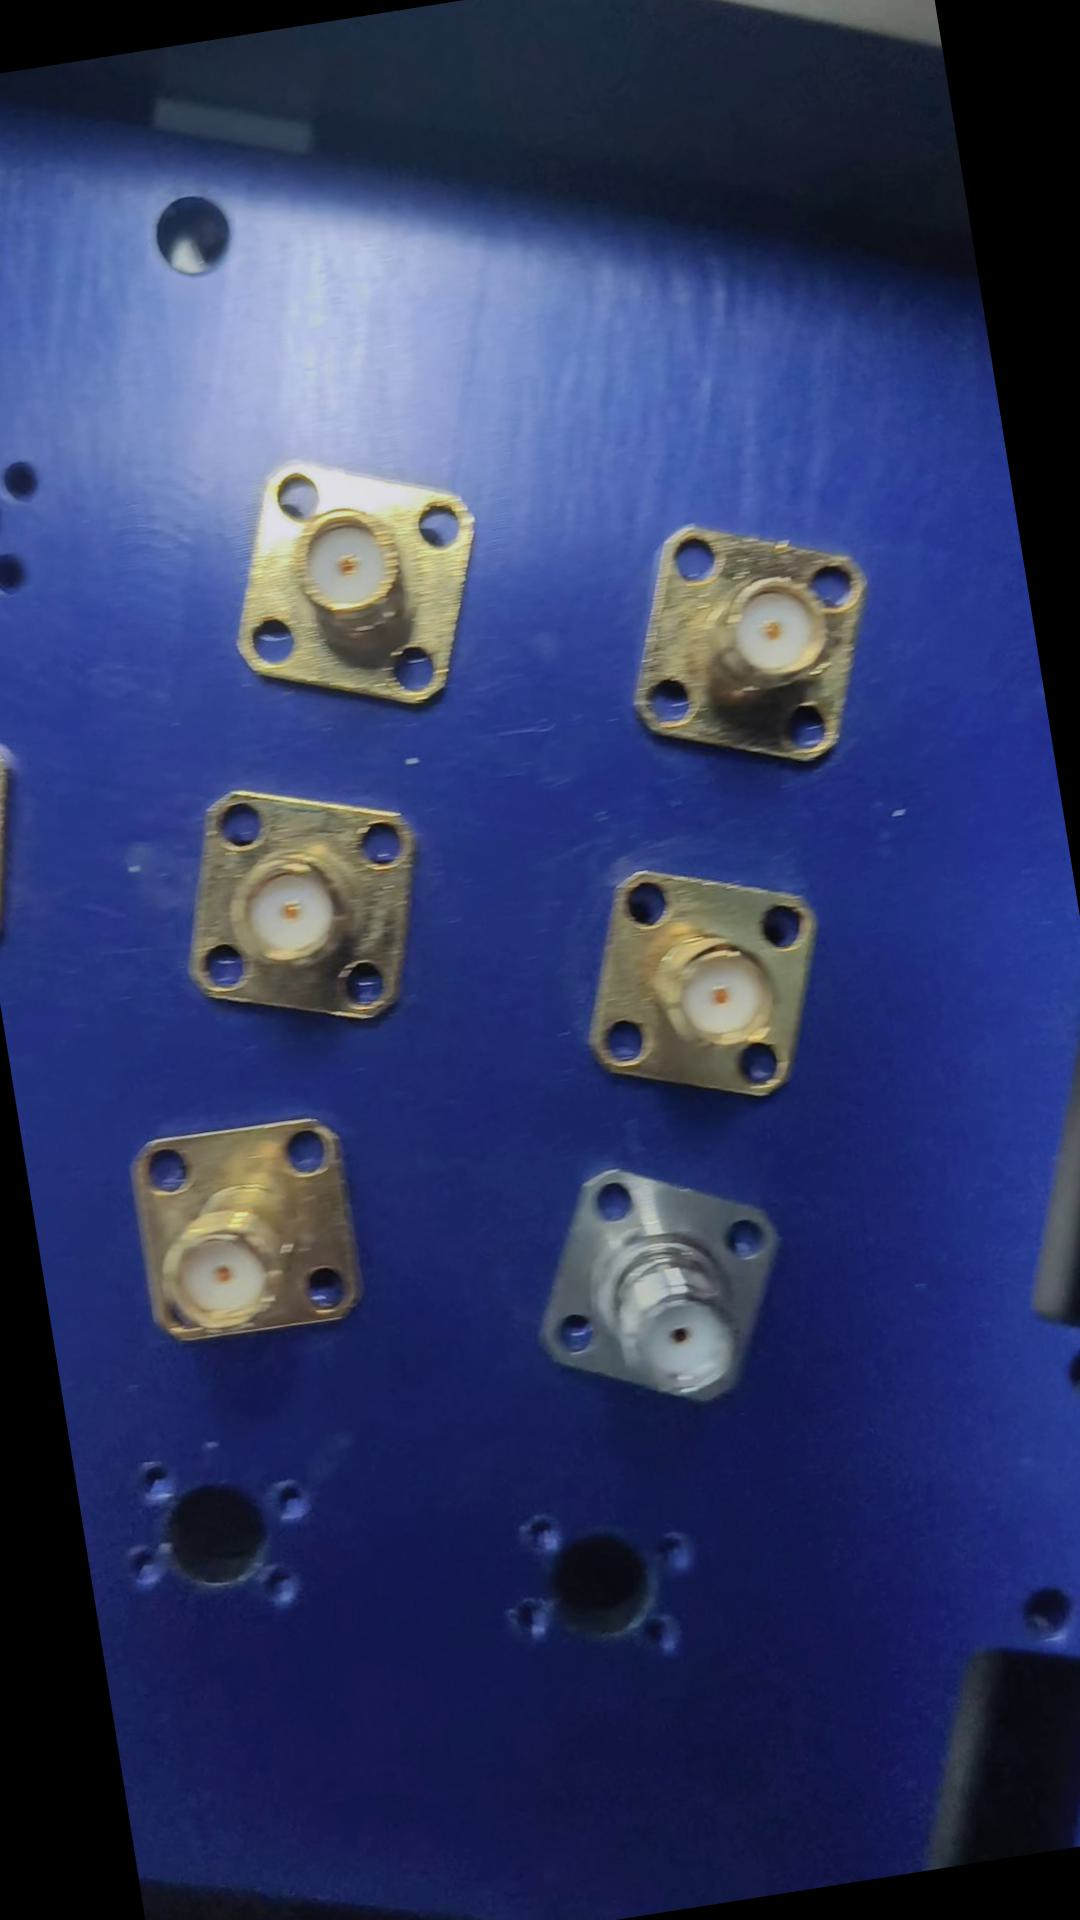SMA: (204, 431, 506, 733), (605, 495, 899, 787), (509, 1145, 800, 1433), (157, 765, 440, 1052), (555, 847, 836, 1125), (115, 1102, 369, 1357)
